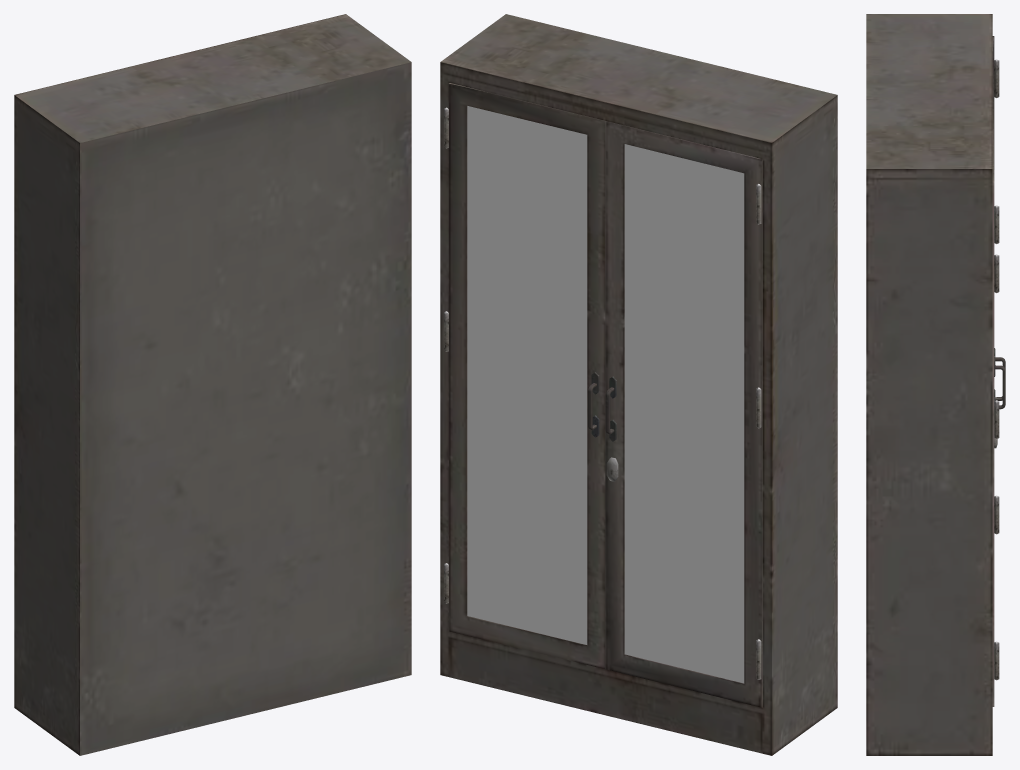
The model's file is tall_cabinet.glb.
The picture shows the model from 3 angles, left to right: view 1: azimuth 30°, elevation 25°; view 2: azimuth 150°, elevation 25°; view 3: azimuth 270°, elevation 25°; orthographic projection. The views are drawn at different scales.
Parts seen in each view (by area): view 1: zp_bigcab; view 2: zp_bigcab; view 3: zp_bigcab.
Boxes of the visible parts, x1,y1,x2,y2 form: zp_bigcab: (14,14,411,755); zp_bigcab: (440,14,837,755); zp_bigcab: (866,14,1005,755).
Size of the model in its own units: 1.3 by 2.29 by 0.4912.
2 materials, 1 textured.
